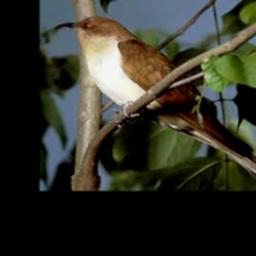Cuckoo: (52, 14, 256, 179)
